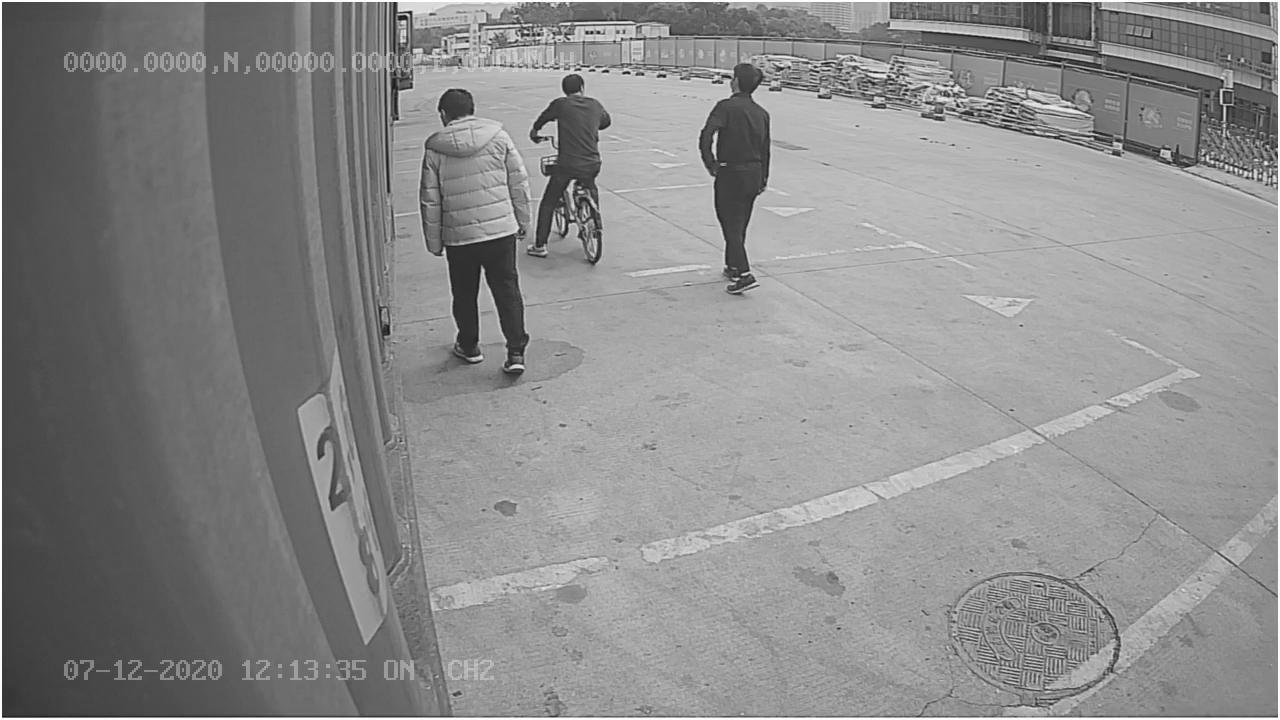person: (419, 83, 533, 380), (696, 58, 776, 295)
